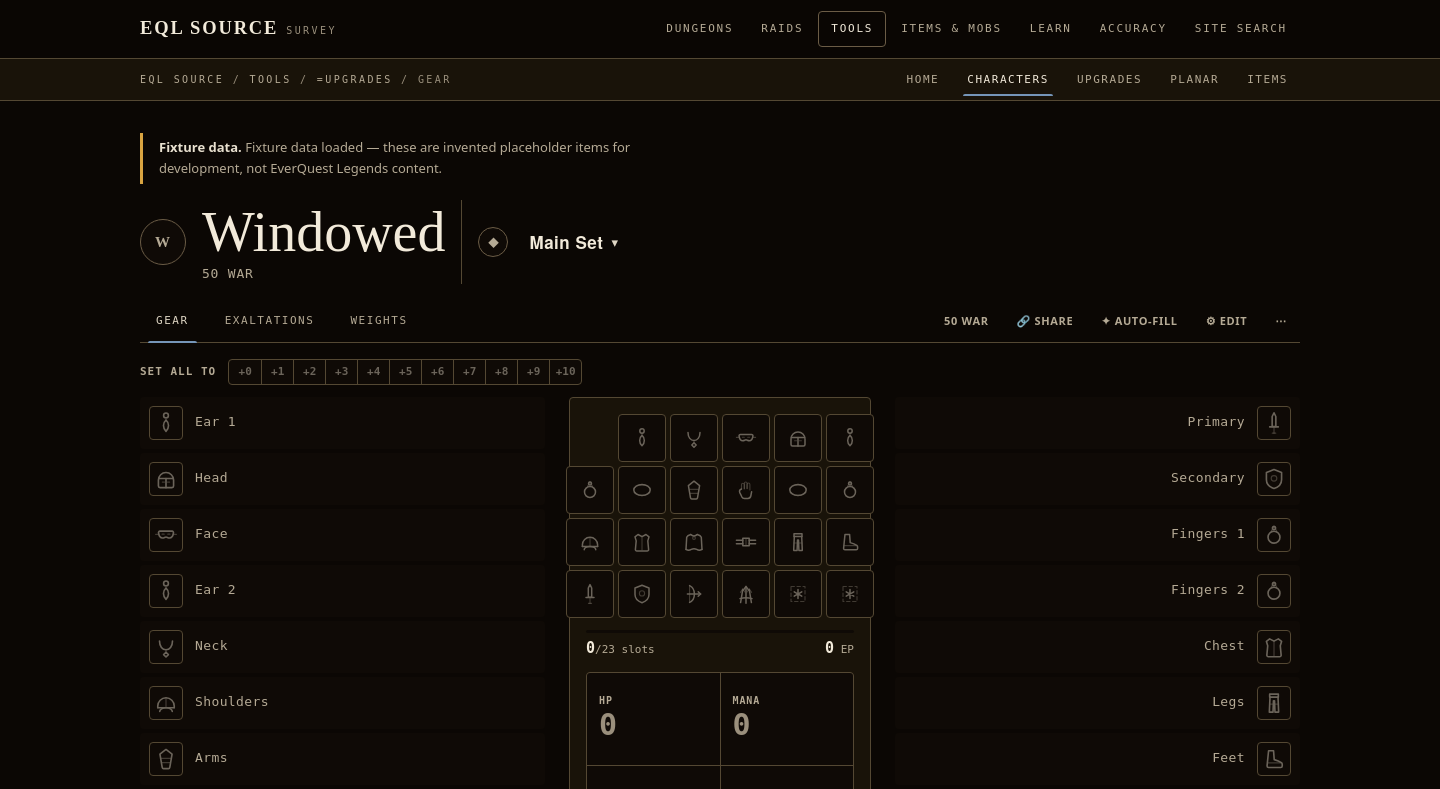
Test case: the picker result list › builds a small window of rows for a large candidate list
The image size is (1440, 789).
Click the button named "Fingers 1, empty" at (590,490), box x1=566 y1=466 x2=614 y2=514
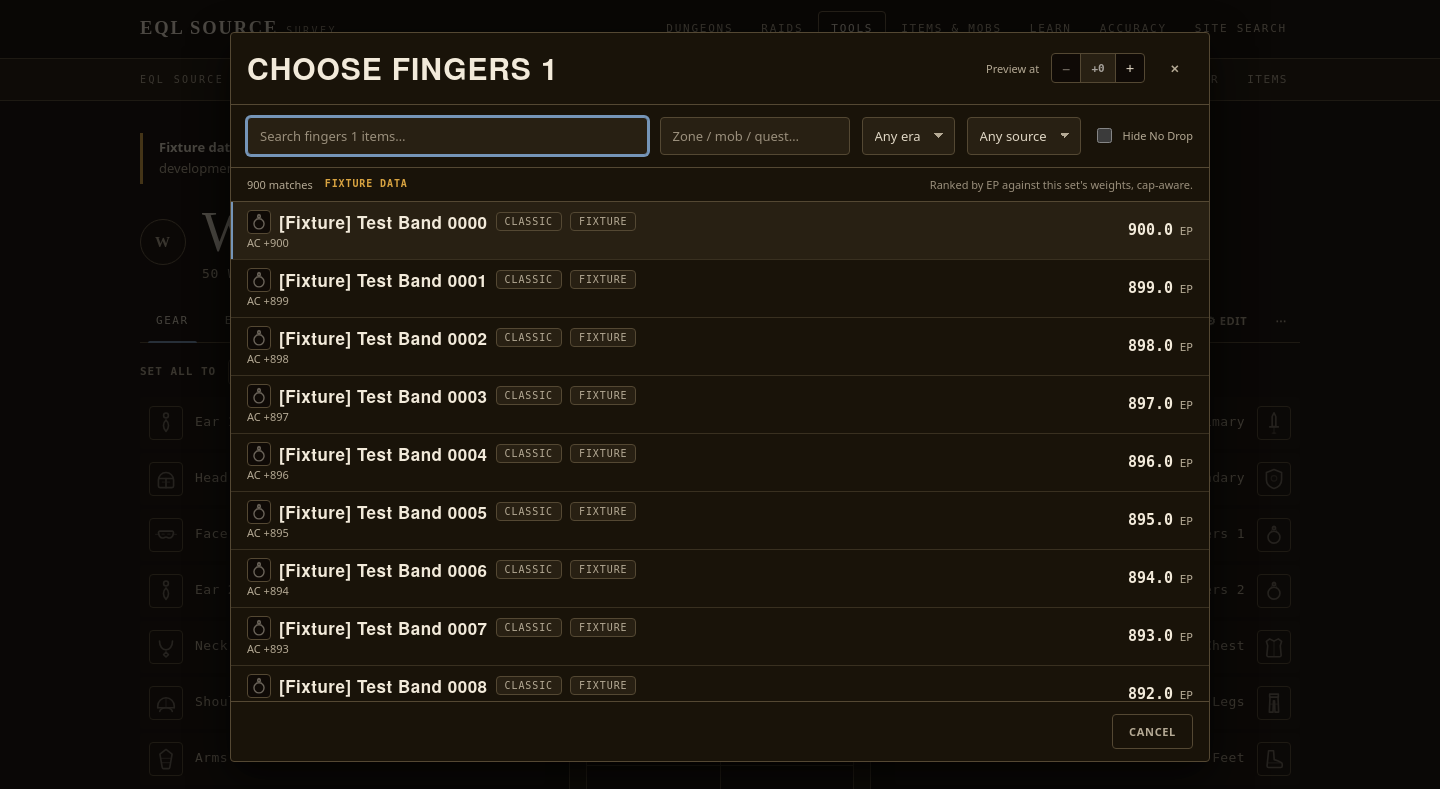
Expected: the list is shown, x1=231 y1=202 x2=1209 y2=701
